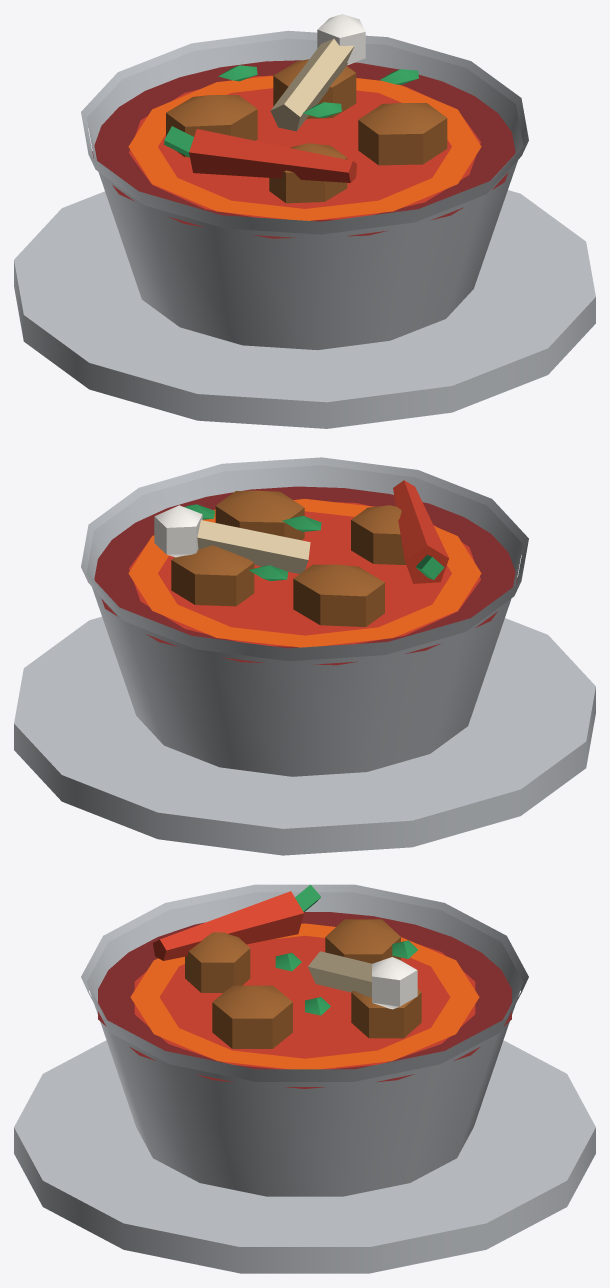
File: pass_laal_maas.glb
3 renders of one model, top to bottom at view 1: azimuth 30°, elevation 25°; view 2: azimuth 150°, elevation 25°; view 3: azimuth 270°, elevation 25°, orthographic.
Visible parts, largest first — view 1: pass_laal_maas; view 2: pass_laal_maas; view 3: pass_laal_maas.
Part boxes in pixels (box(x1,y1,x2,y2)): pass_laal_maas: box(14, 14, 595, 428); pass_laal_maas: box(14, 457, 595, 855); pass_laal_maas: box(14, 884, 595, 1273).
Bounding box in the file's own units: 0.195 × 0.0895 × 0.2.
1 material, 1 textured.
